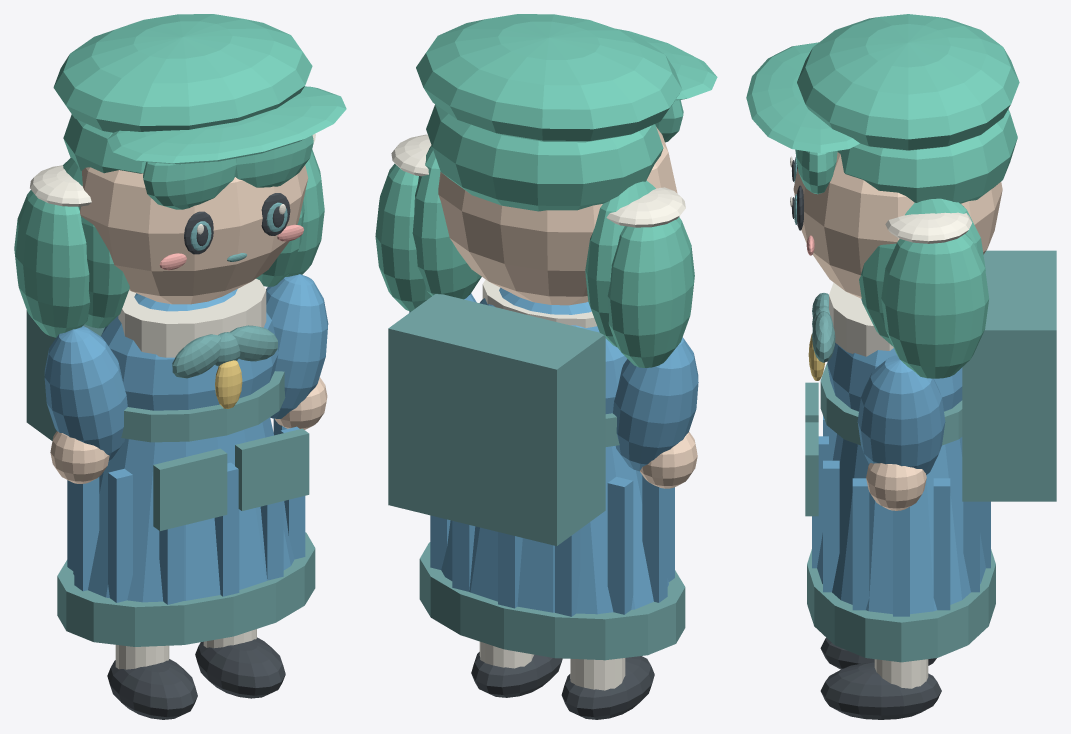
Rendered from Nitori.fbx.
The picture shows the model from 3 angles, left to right: view 1: azimuth 30°, elevation 25°; view 2: azimuth 150°, elevation 25°; view 3: azimuth 270°, elevation 25°; orthographic projection. The views are drawn at different scales.
Parts seen in each view (by area): view 1: Cap, Head, Dress, DressHem, TwinTail.001, CapBrim, Sleeve.001, Torso, Sleeve, Collar, Belt, Pocket.001 (+27 smaller); view 2: Backpack, Cap, HairCap, Head, DressHem, TwinTail.001, Dress, Sleeve.001, TwinTail, HairSide, HairSide.001, SkirtPleat.006 (+17 smaller); view 3: Cap, Backpack, TwinTail, Dress, Head, DressHem, HairCap, Sleeve, CapBrim, Shoe, Torso, HairSide (+17 smaller).
Boxes of the visible parts, x1,y1,x2,y2 form: Cap: [53, 14, 312, 132]; Head: [80, 165, 308, 304]; Dress: [73, 417, 294, 602]; DressHem: [57, 532, 315, 646]; TwinTail.001: [14, 190, 90, 337]; CapBrim: [107, 86, 346, 164]; Sleeve.001: [44, 326, 127, 460]; Torso: [101, 289, 278, 410]; Sleeve: [266, 274, 328, 418]; Collar: [118, 279, 266, 357]; Belt: [121, 371, 285, 442]; Pocket.001: [153, 448, 227, 530]; Backpack: [388, 294, 605, 545]; Cap: [416, 14, 682, 142]; HairCap: [426, 104, 663, 211]; Head: [438, 127, 677, 305]; DressHem: [419, 542, 685, 660]; TwinTail.001: [607, 217, 694, 367]; Dress: [441, 445, 668, 614]; Sleeve.001: [613, 337, 698, 471]; TwinTail: [375, 163, 431, 311]; HairSide: [412, 145, 481, 299]; HairSide.001: [585, 180, 655, 346]; SkirtPleat.006: [607, 477, 633, 614]; Cap: [797, 14, 1019, 150]; Backpack: [962, 250, 1056, 501]; TwinTail: [881, 233, 989, 378]; Dress: [817, 434, 985, 614]; Head: [793, 152, 1002, 298]; DressHem: [807, 549, 995, 662]; HairCap: [837, 109, 1017, 203]; Sleeve: [857, 355, 945, 474]; CapBrim: [746, 42, 859, 153]; Shoe: [820, 662, 941, 719]; Torso: [827, 299, 962, 411]; HairSide: [859, 198, 985, 345].
Bounding box in the file's own units: 100 × 213 × 92.
